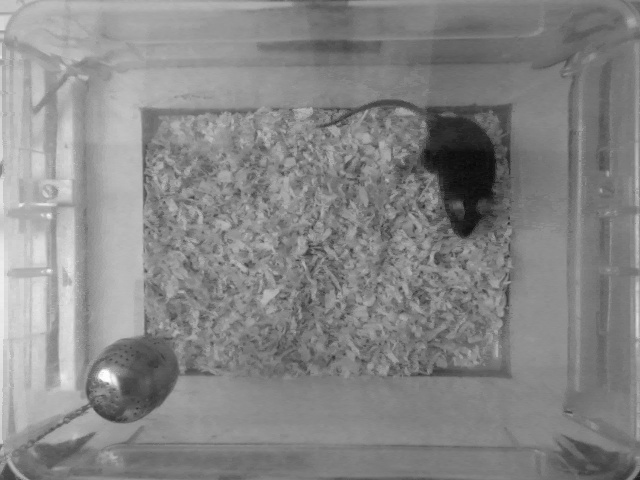mice: (316, 94, 500, 241)
